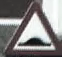Speed Breaker ahead: (7, 2, 56, 50)
